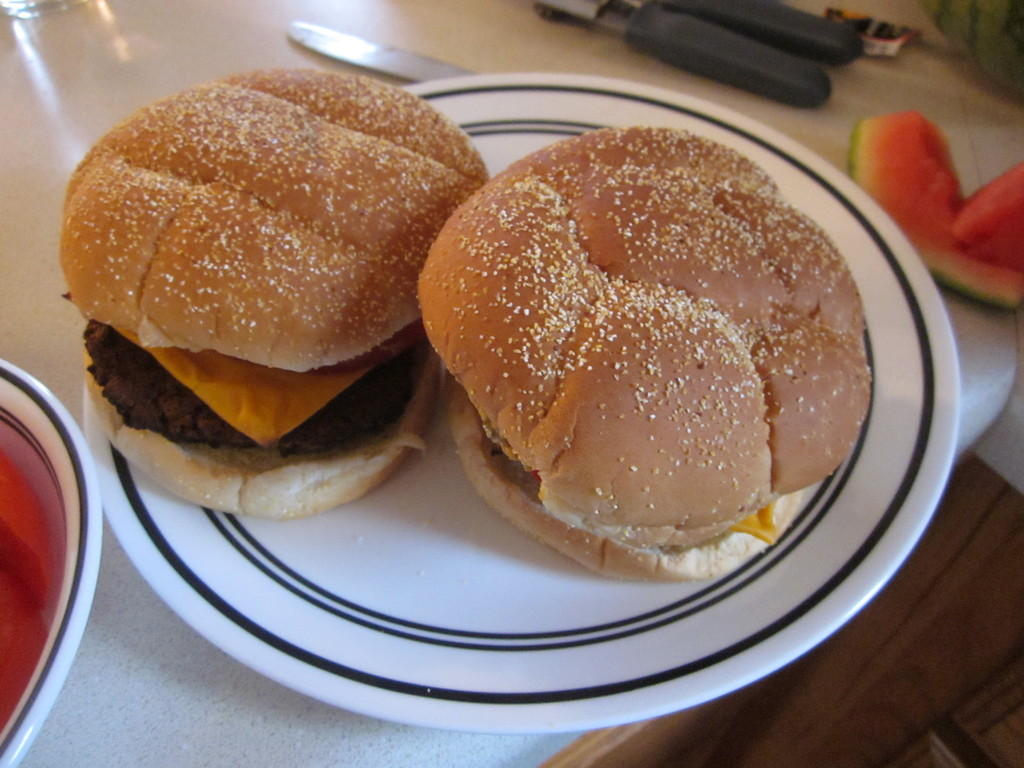Hamburger: (417, 125, 871, 581), (56, 67, 492, 520)
